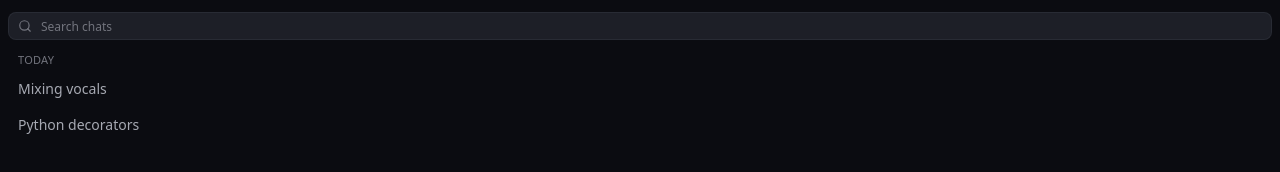
searching asks the backend
The image size is (1280, 172).
Expected: the text "Python decorators" is shown, [18,115,139,134]
In the field named "Search conversations": (640, 26) [8,12,1272,40], type "python"
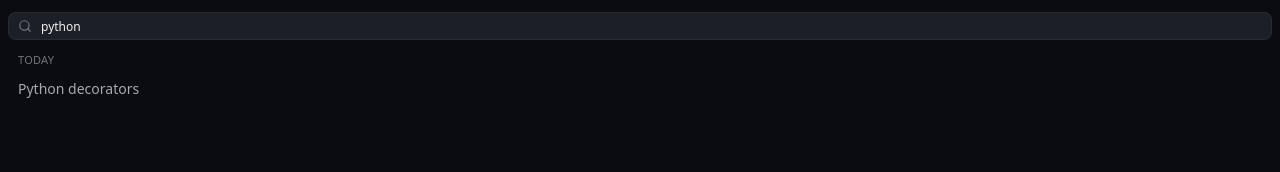
Now the link "Mixing vocals" is gone
